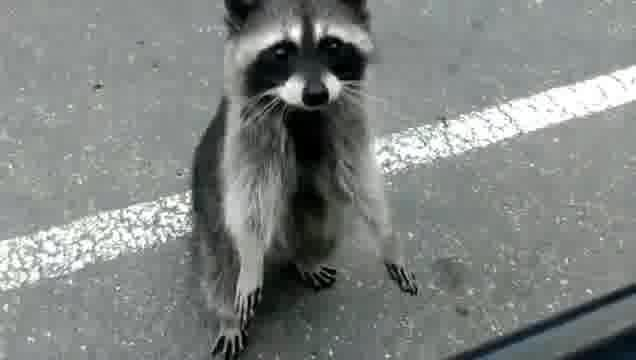raccoon: (179, 0, 422, 358)
